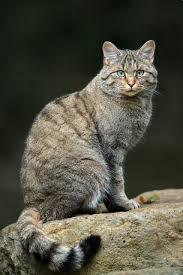Non_Gorille: (24, 28, 174, 233)
